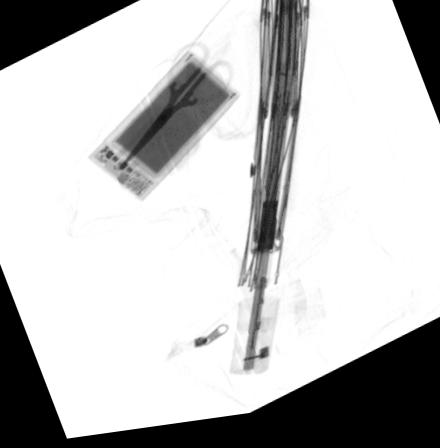Powerbank: (86, 57, 239, 208)
Scissors: (118, 48, 233, 172)
